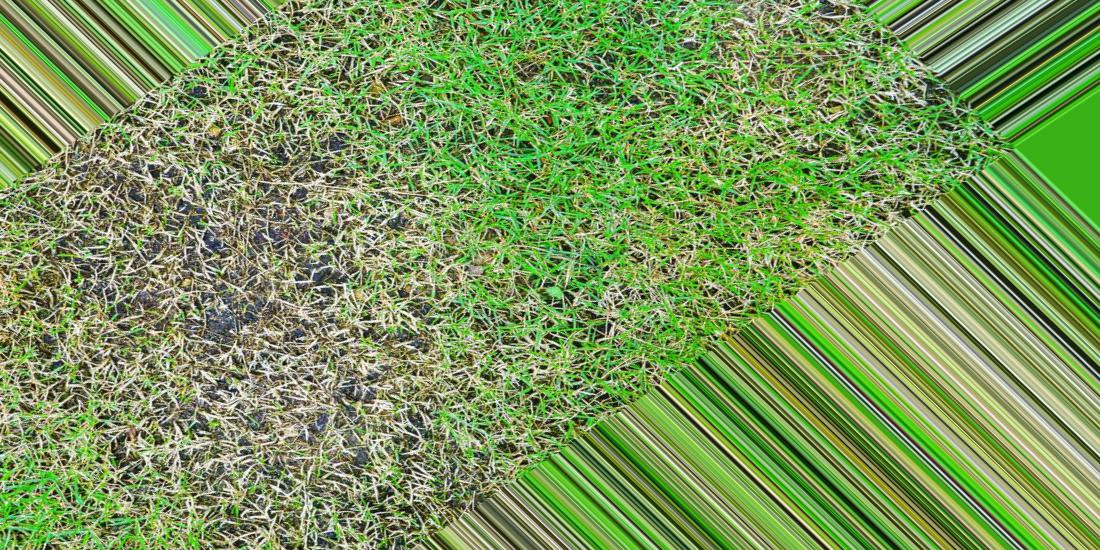patch: (147, 167, 419, 469)
